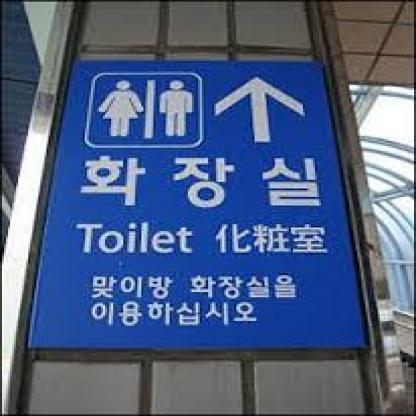toilet: (98, 74, 196, 139)
